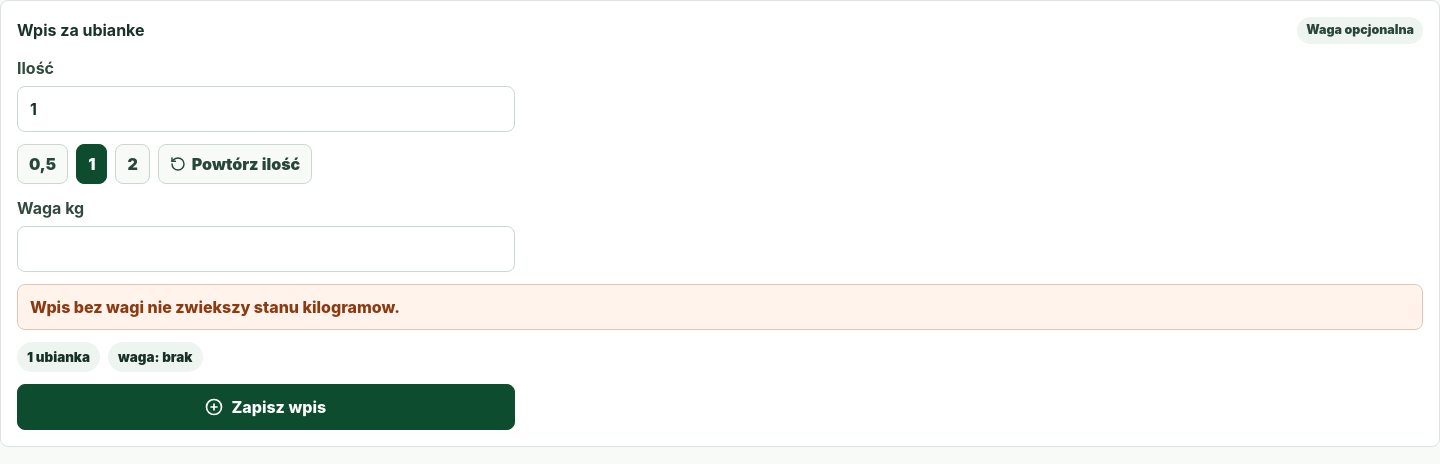
Test: UbiankaEntryForm › uses quick quantity buttons and repeat-last quantity
The width and height of the screenshot is (1440, 464).
Step 1. Click the button "0,5" → click(43, 164), box [17, 144, 68, 184]
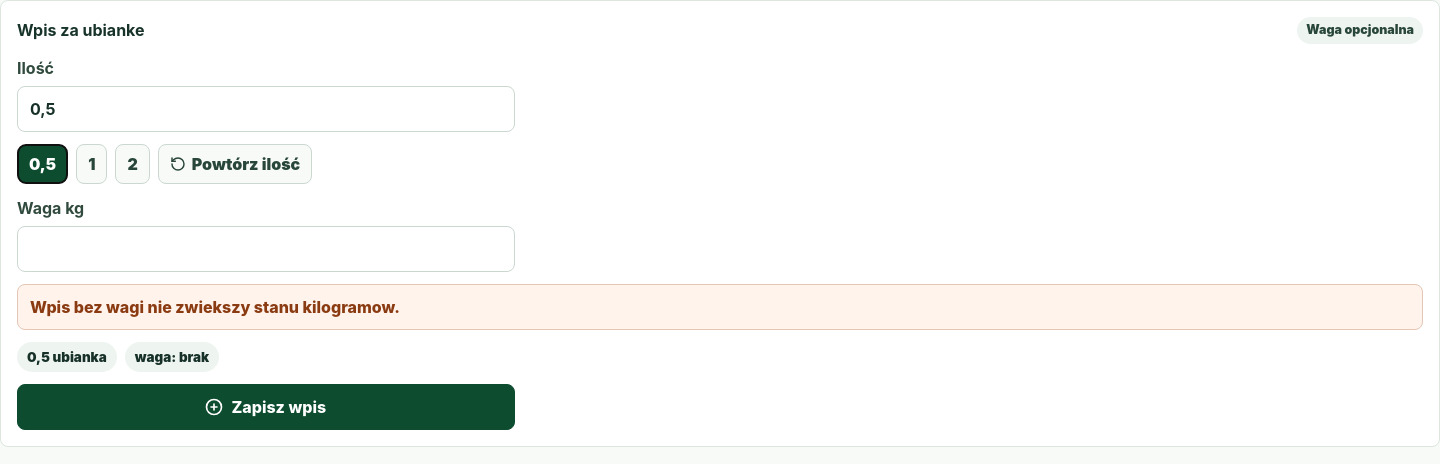
Result: the field labelled "Ilość" holds "0,5" at [17, 86, 514, 132]
Result: the text "0,5 ubianka" is shown at [17, 342, 117, 372]
Step 2. Click the button "2" → click(133, 164), box [115, 144, 150, 184]
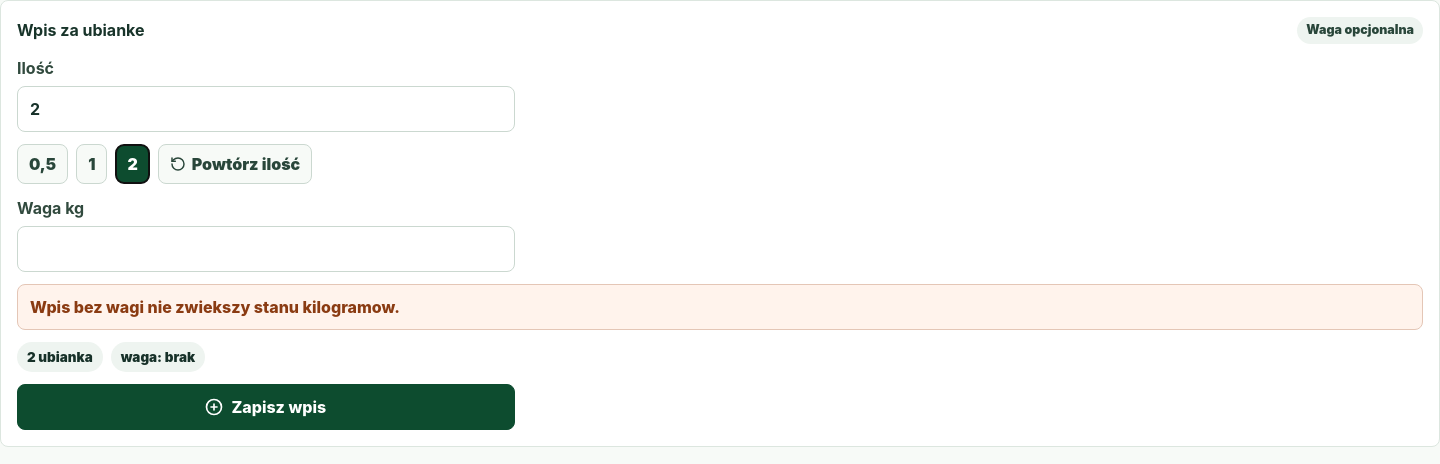
Result: the field labelled "Ilość" holds "2" at [17, 86, 514, 132]
Step 3. Click the button "Powtórz ilość" → click(235, 164), box [158, 144, 312, 184]
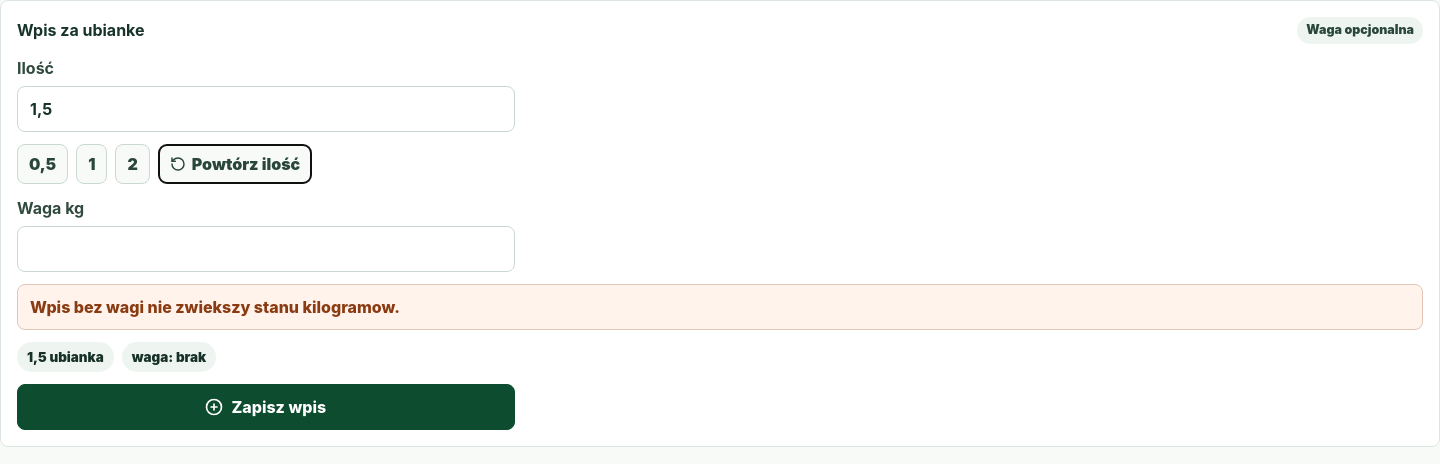
Result: the field labelled "Ilość" holds "1,5" at [17, 86, 514, 132]
